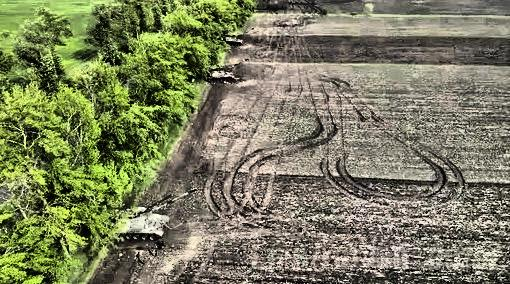military-vehicle: (104, 189, 197, 241), (206, 59, 250, 83), (221, 27, 255, 47)
